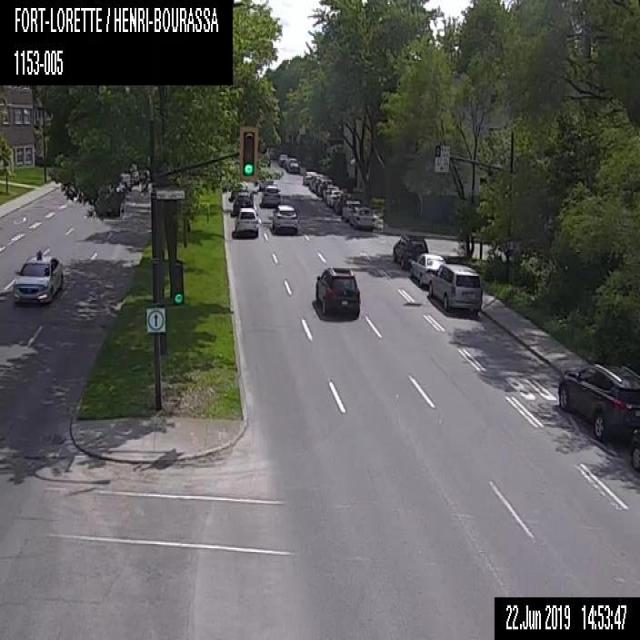vehicle: (556, 360, 639, 442), (11, 248, 63, 305), (428, 263, 482, 312), (313, 265, 361, 320), (392, 232, 428, 268), (411, 252, 446, 288), (234, 204, 259, 239), (271, 203, 298, 235), (349, 205, 375, 229), (627, 424, 639, 470), (94, 201, 122, 220), (232, 189, 253, 213), (341, 199, 363, 221), (261, 184, 282, 207), (333, 192, 355, 212), (325, 189, 342, 207), (316, 177, 332, 195), (322, 184, 338, 201), (312, 175, 326, 191), (302, 170, 316, 185), (308, 174, 323, 188), (287, 160, 301, 173), (283, 157, 295, 169), (278, 152, 286, 165)
